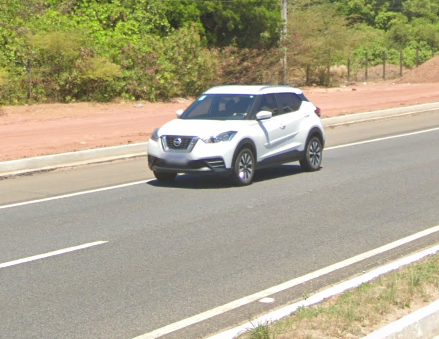car: (145, 83, 327, 187)
